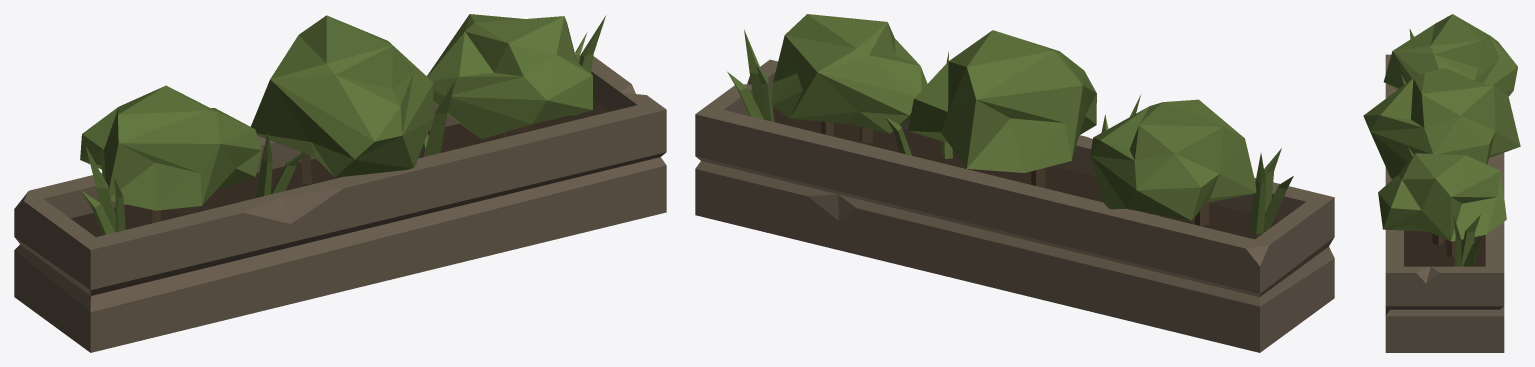
File: SM_Prop_Planter_01.fbx
3 renders of one model, left to right at view 1: azimuth 30°, elevation 25°; view 2: azimuth 150°, elevation 25°; view 3: azimuth 270°, elevation 25°, orthographic. The views are drawn at different scales.
Parts seen in each view (by area): view 1: SM_Prop_Planter_01; view 2: SM_Prop_Planter_01; view 3: SM_Prop_Planter_01.
Boxes of the visible parts, x1=… form: SM_Prop_Planter_01: x1=14, y1=14, x2=666, y2=352; SM_Prop_Planter_01: x1=695, y1=14, x2=1334, y2=352; SM_Prop_Planter_01: x1=1363, y1=14, x2=1520, y2=352.
Bounding box in the file's own units: 230 × 81 × 70.07.
